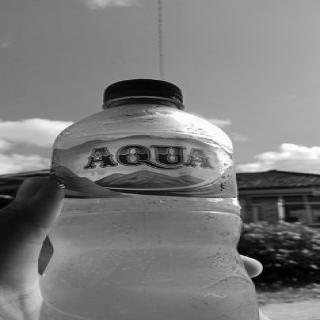plastic_bottles: (38, 74, 259, 320)
